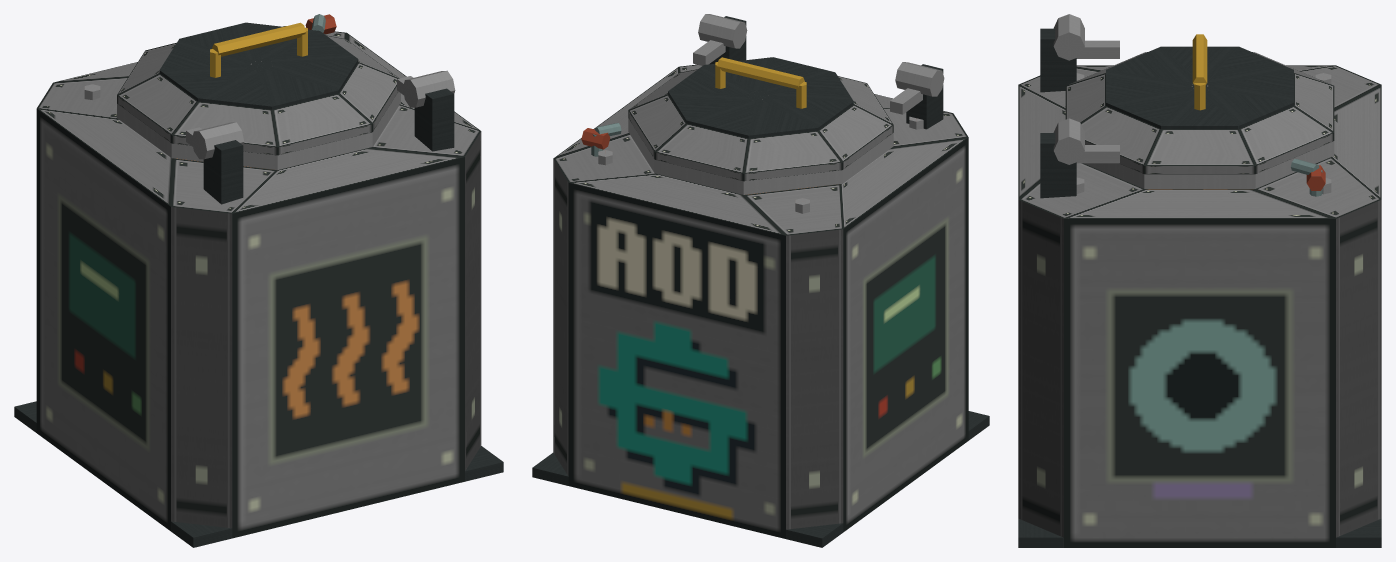
The model's file is small_aod_steel.obj.
3 views of the same model, side by side, from view 1: azimuth 30°, elevation 25°; view 2: azimuth 150°, elevation 25°; view 3: azimuth 270°, elevation 25° (orthographic). The views are drawn at different scales.
Visible parts, largest first — view 1: contact_south, contact_west, lid, cut_corners, shoulder, hinge, sole_edge; view 2: contact_north, contact_west, lid, cut_corners, shoulder, hinge, sole_edge, gas_trim; view 3: contact_east, lid, cut_corners, shoulder, hinge, sole_edge, gas_trim.
Part boxes in pixels (<box>): contact_south: <box>232,157,464,538</box>; contact_west: <box>36,109,170,531</box>; lid: <box>117,22,413,169</box>; cut_corners: <box>171,131,481,528</box>; shoulder: <box>37,26,480,213</box>; hinge: <box>191,70,455,204</box>; sole_edge: <box>14,401,503,547</box>; contact_north: <box>568,183,785,538</box>; contact_west: <box>843,137,968,532</box>; lid: <box>628,40,922,194</box>; cut_corners: <box>553,159,843,529</box>; shoulder: <box>553,64,968,235</box>; hinge: <box>698,14,944,129</box>; sole_edge: <box>532,411,989,547</box>; gas_trim: <box>581,123,621,156</box>; contact_east: <box>1064,219,1335,547</box>; lid: <box>1065,34,1334,188</box>; cut_corners: <box>1018,200,1381,537</box>; shoulder: <box>1018,65,1381,218</box>; hinge: <box>1040,14,1084,198</box>; sole_edge: <box>1018,518,1381,547</box>; gas_trim: <box>1291,159,1325,196</box>.
Size of the model in its own units: 1 by 1.26 by 1.
Materials: 14 (14 with a texture image).
